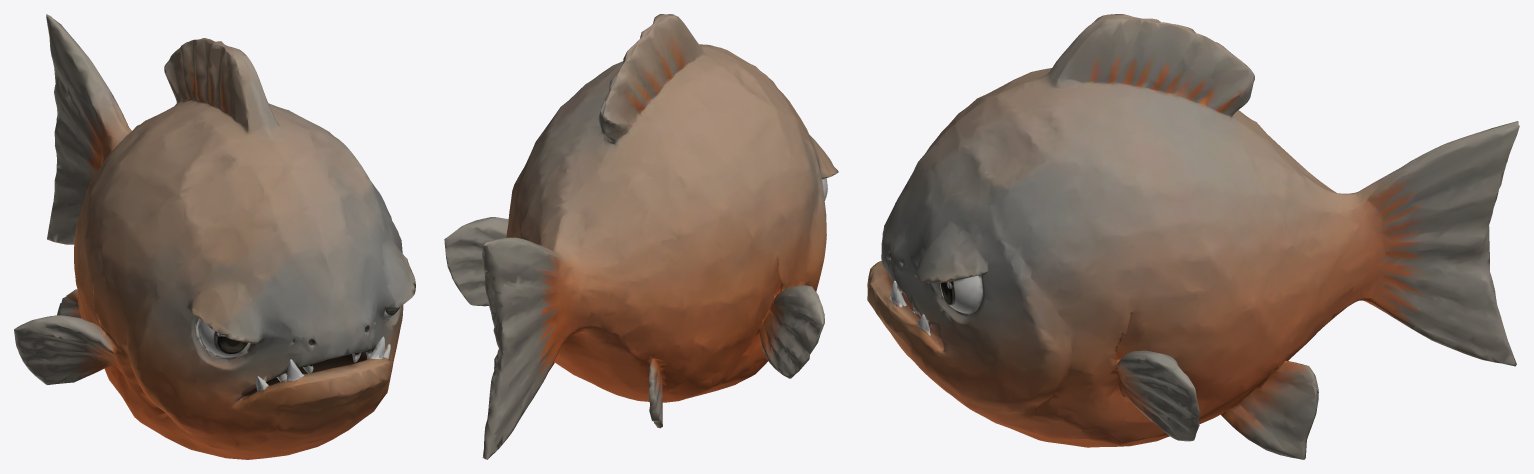
Rendered from nat_fish_piranha_v1.glb.
The picture shows the model from 3 angles, left to right: view 1: azimuth 30°, elevation 25°; view 2: azimuth 150°, elevation 25°; view 3: azimuth 270°, elevation 25°; orthographic projection. The views are drawn at different scales.
Visible parts, largest first — view 1: tripo_node_788ef5a0-9833-4b03-a06f-a558611736a6; view 2: tripo_node_788ef5a0-9833-4b03-a06f-a558611736a6; view 3: tripo_node_788ef5a0-9833-4b03-a06f-a558611736a6.
Boxes of the visible parts, x1,y1,x2,y2 form: tripo_node_788ef5a0-9833-4b03-a06f-a558611736a6: (14, 14, 415, 459); tripo_node_788ef5a0-9833-4b03-a06f-a558611736a6: (444, 14, 838, 459); tripo_node_788ef5a0-9833-4b03-a06f-a558611736a6: (867, 14, 1519, 459).
Size of the model in its own units: 0.7202 by 0.6869 by 0.9804.
Materials: 1 (1 with a texture image).
